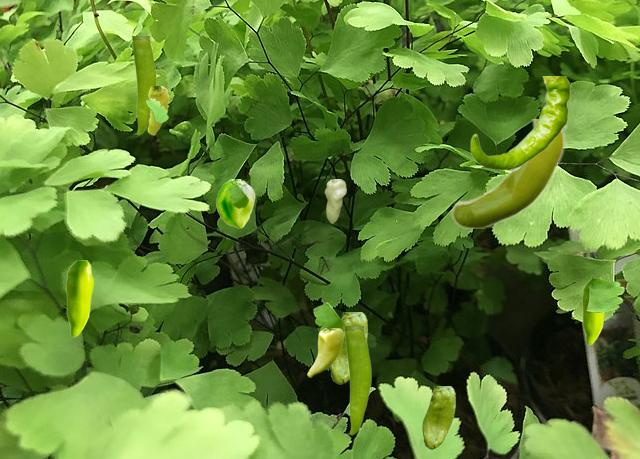green_chili: (450, 119, 566, 227), (470, 76, 570, 170), (343, 326, 370, 434), (329, 312, 366, 383), (131, 36, 155, 134), (422, 386, 454, 448), (66, 260, 92, 336), (216, 179, 254, 227), (307, 328, 342, 376), (582, 278, 605, 344), (147, 86, 168, 134), (324, 179, 345, 222)
